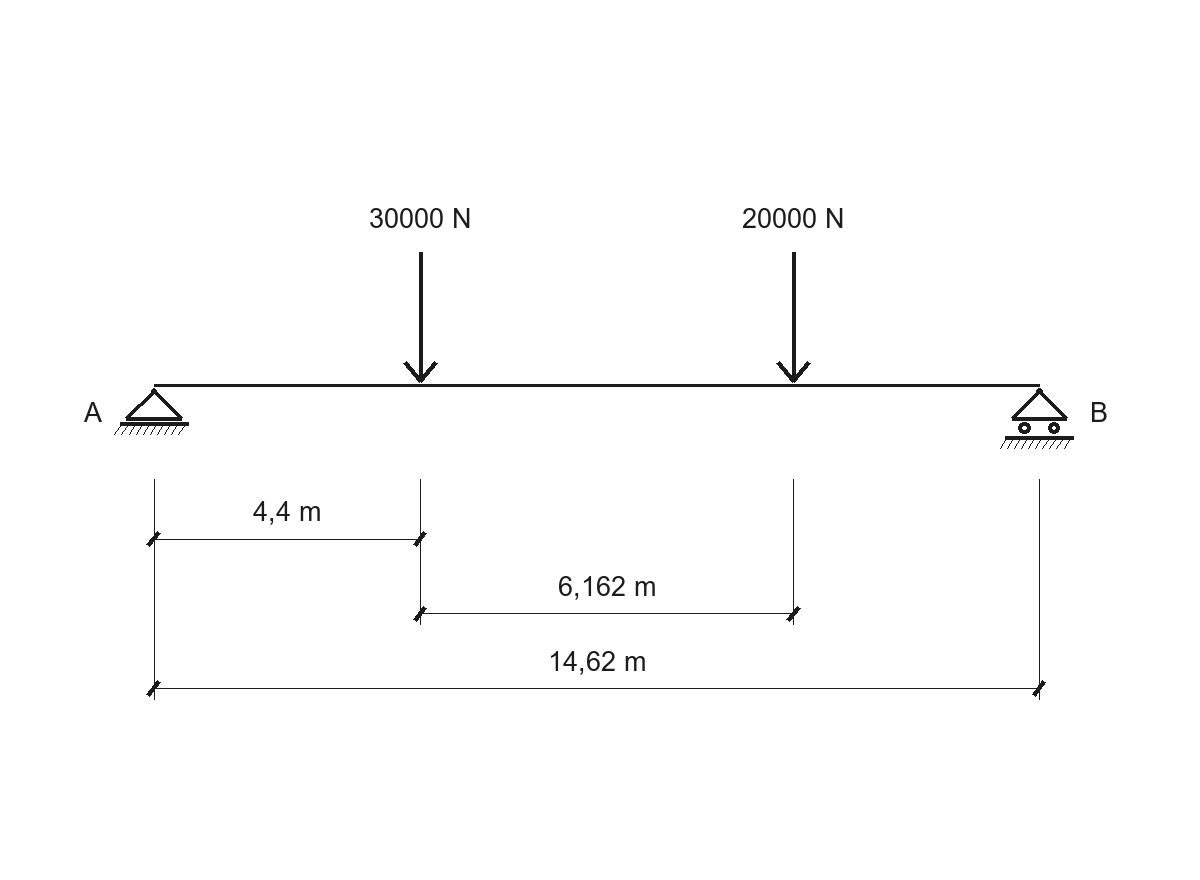pin_support: (114, 388, 189, 435)
point_load: (403, 252, 438, 383), (776, 252, 811, 383)
roller_support: (1000, 388, 1074, 449)
